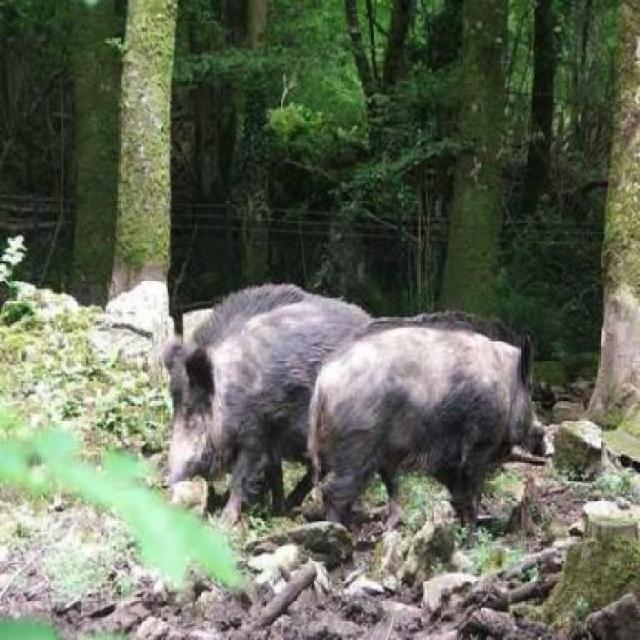Boar: (238, 235, 638, 568), (151, 276, 406, 546)
